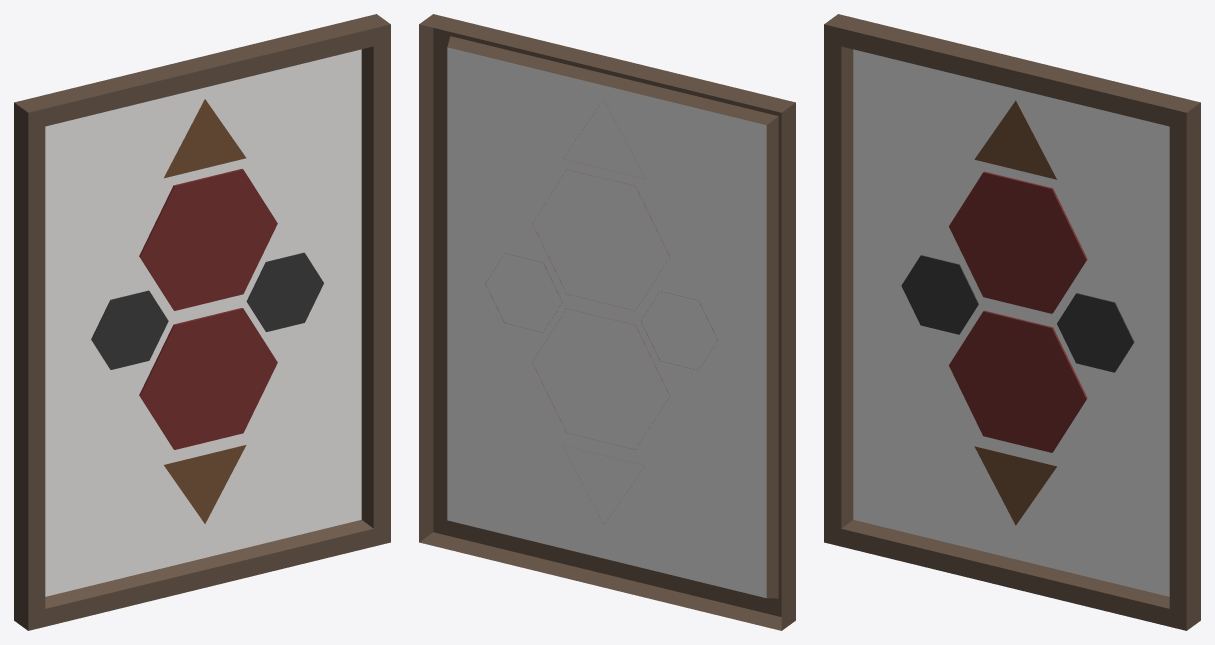
The model's file is Picture_17.fbx.
The picture shows the model from 3 angles, left to right: view 1: azimuth 30°, elevation 25°; view 2: azimuth 150°, elevation 25°; view 3: azimuth 330°, elevation 25°; orthographic projection.
Visible parts, largest first — view 1: Picture_17; view 2: Picture_17; view 3: Picture_17.
Part boxes in pixels (left/top/right/bottom): Picture_17: left=14, top=14, right=390, bottom=630; Picture_17: left=419, top=14, right=795, bottom=630; Picture_17: left=824, top=14, right=1200, bottom=630.
Bounding box in the file's own units: 84.67 × 5.71 × 116.
